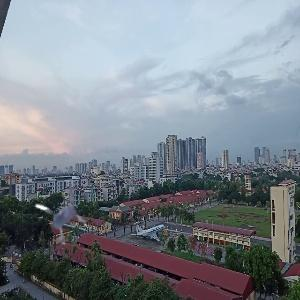drone: (11, 167, 99, 255)
